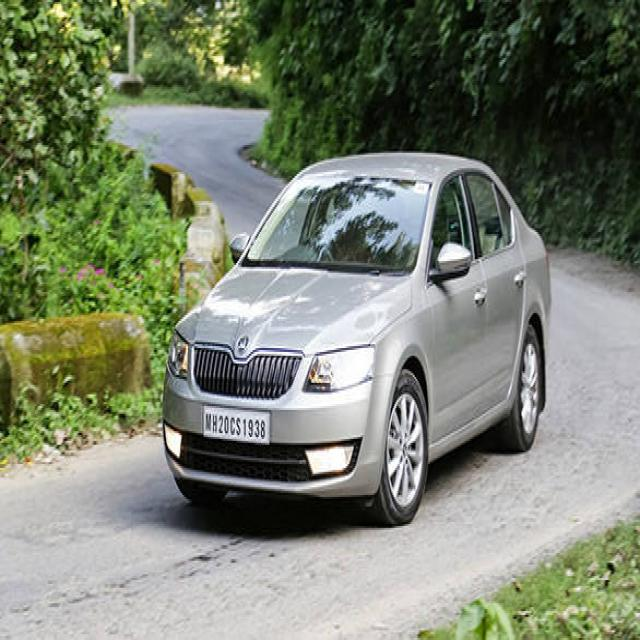license-plate: (201, 402, 271, 443)
